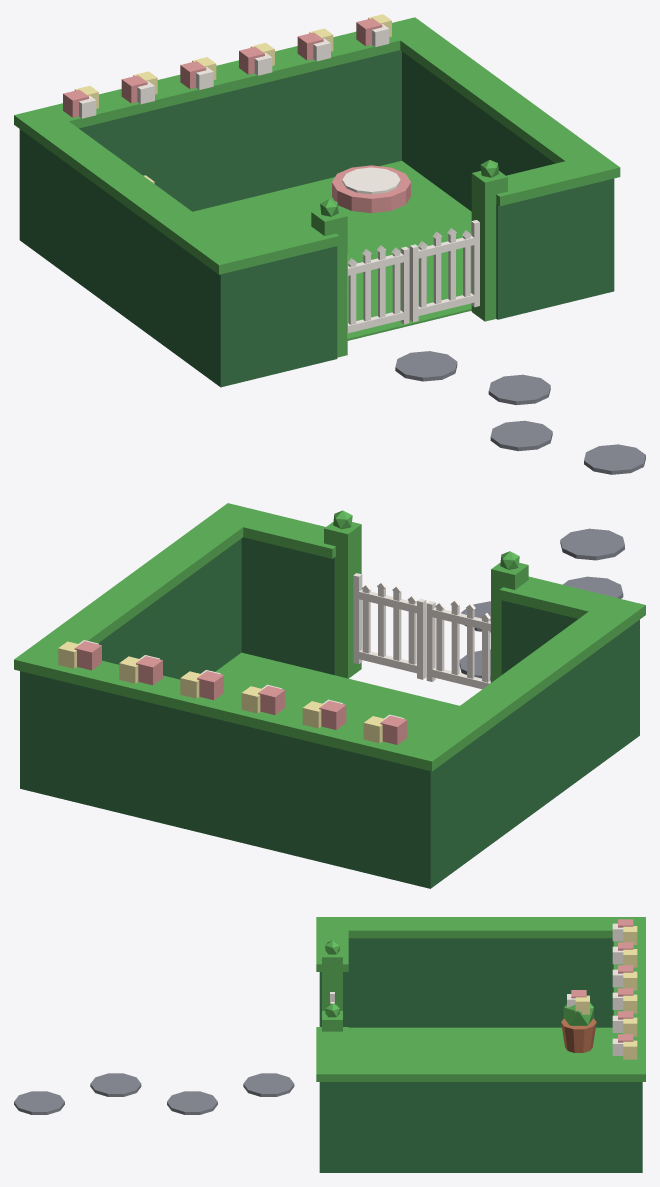
File: CatCafe_Nook_Park.glb
3 renders of one model, top to bottom at view 1: azimuth 30°, elevation 25°; view 2: azimuth 150°, elevation 25°; view 3: azimuth 270°, elevation 25°, orthographic. The views are drawn at different scales.
Visible parts, largest first — view 1: CatCafe_Nook_Park, CatCafe_Nook_Park_Decor, CatCafe_Nook_Park_GateL, CatCafe_Nook_Park_GateR; view 2: CatCafe_Nook_Park, CatCafe_Nook_Park_Decor, CatCafe_Nook_Park_GateL, CatCafe_Nook_Park_GateR; view 3: CatCafe_Nook_Park, CatCafe_Nook_Park_Decor.
Part boxes in pixels (left/top/right/bottom): CatCafe_Nook_Park: left=14, top=17, right=620, bottom=387; CatCafe_Nook_Park_Decor: left=63, top=14, right=645, bottom=474; CatCafe_Nook_Park_GateL: left=410, top=220, right=479, bottom=322; CatCafe_Nook_Park_GateR: left=347, top=245, right=409, bottom=337; CatCafe_Nook_Park: left=14, top=503, right=645, bottom=888; CatCafe_Nook_Park_Decor: left=58, top=528, right=624, bottom=744; CatCafe_Nook_Park_GateL: left=353, top=573, right=426, bottom=679; CatCafe_Nook_Park_GateR: left=426, top=599, right=490, bottom=689; CatCafe_Nook_Park: left=316, top=917, right=645, bottom=1172; CatCafe_Nook_Park_Decor: left=14, top=919, right=637, bottom=1114.
Size of the model in its own units: 8.76 by 3.22 by 14.88.
1 material, 1 textured.
